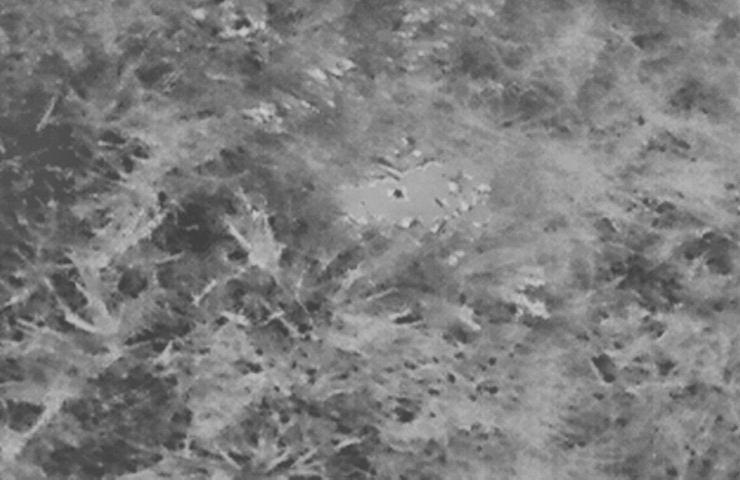landmines: (339, 157, 500, 250)
